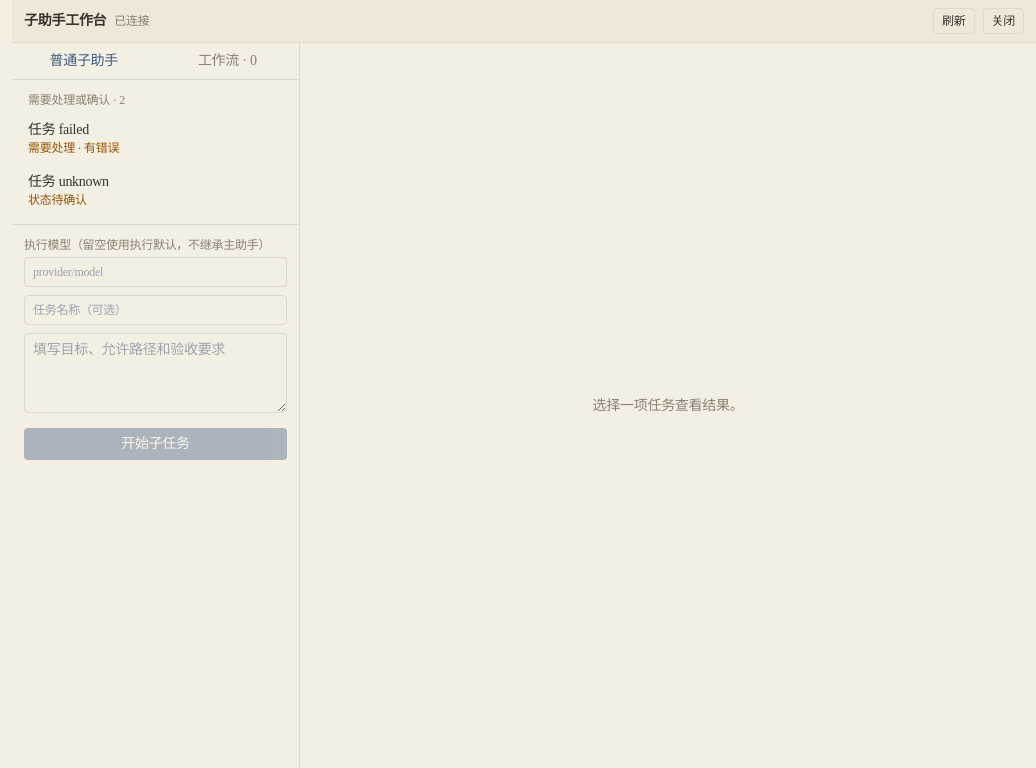
Test case: workbench lifecycle › keeps failed/unknown records visible and workflow children out of ordinary list
Check: the text "需要处理或确认 · 2" is shown, box [28,93,125,107]
Click the text "任务 failed" at (58, 130), box [28,122,89,137]
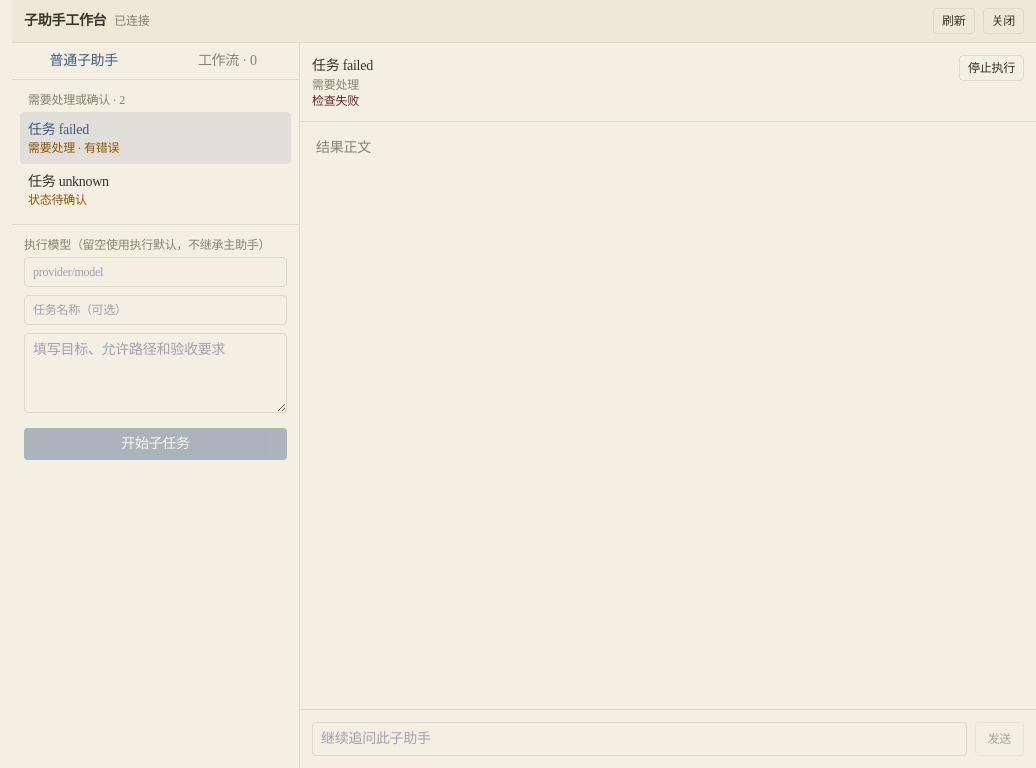
Check: the message reads "检查失败", box [312,94,359,108]
